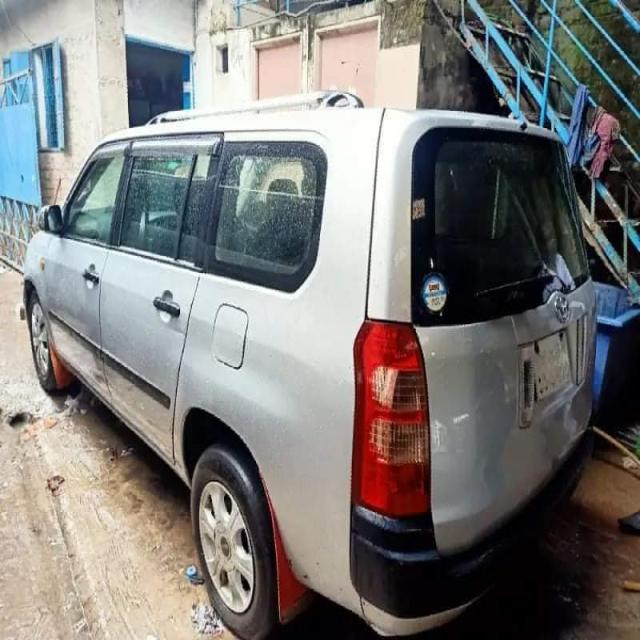silver: (10, 119, 640, 579)
